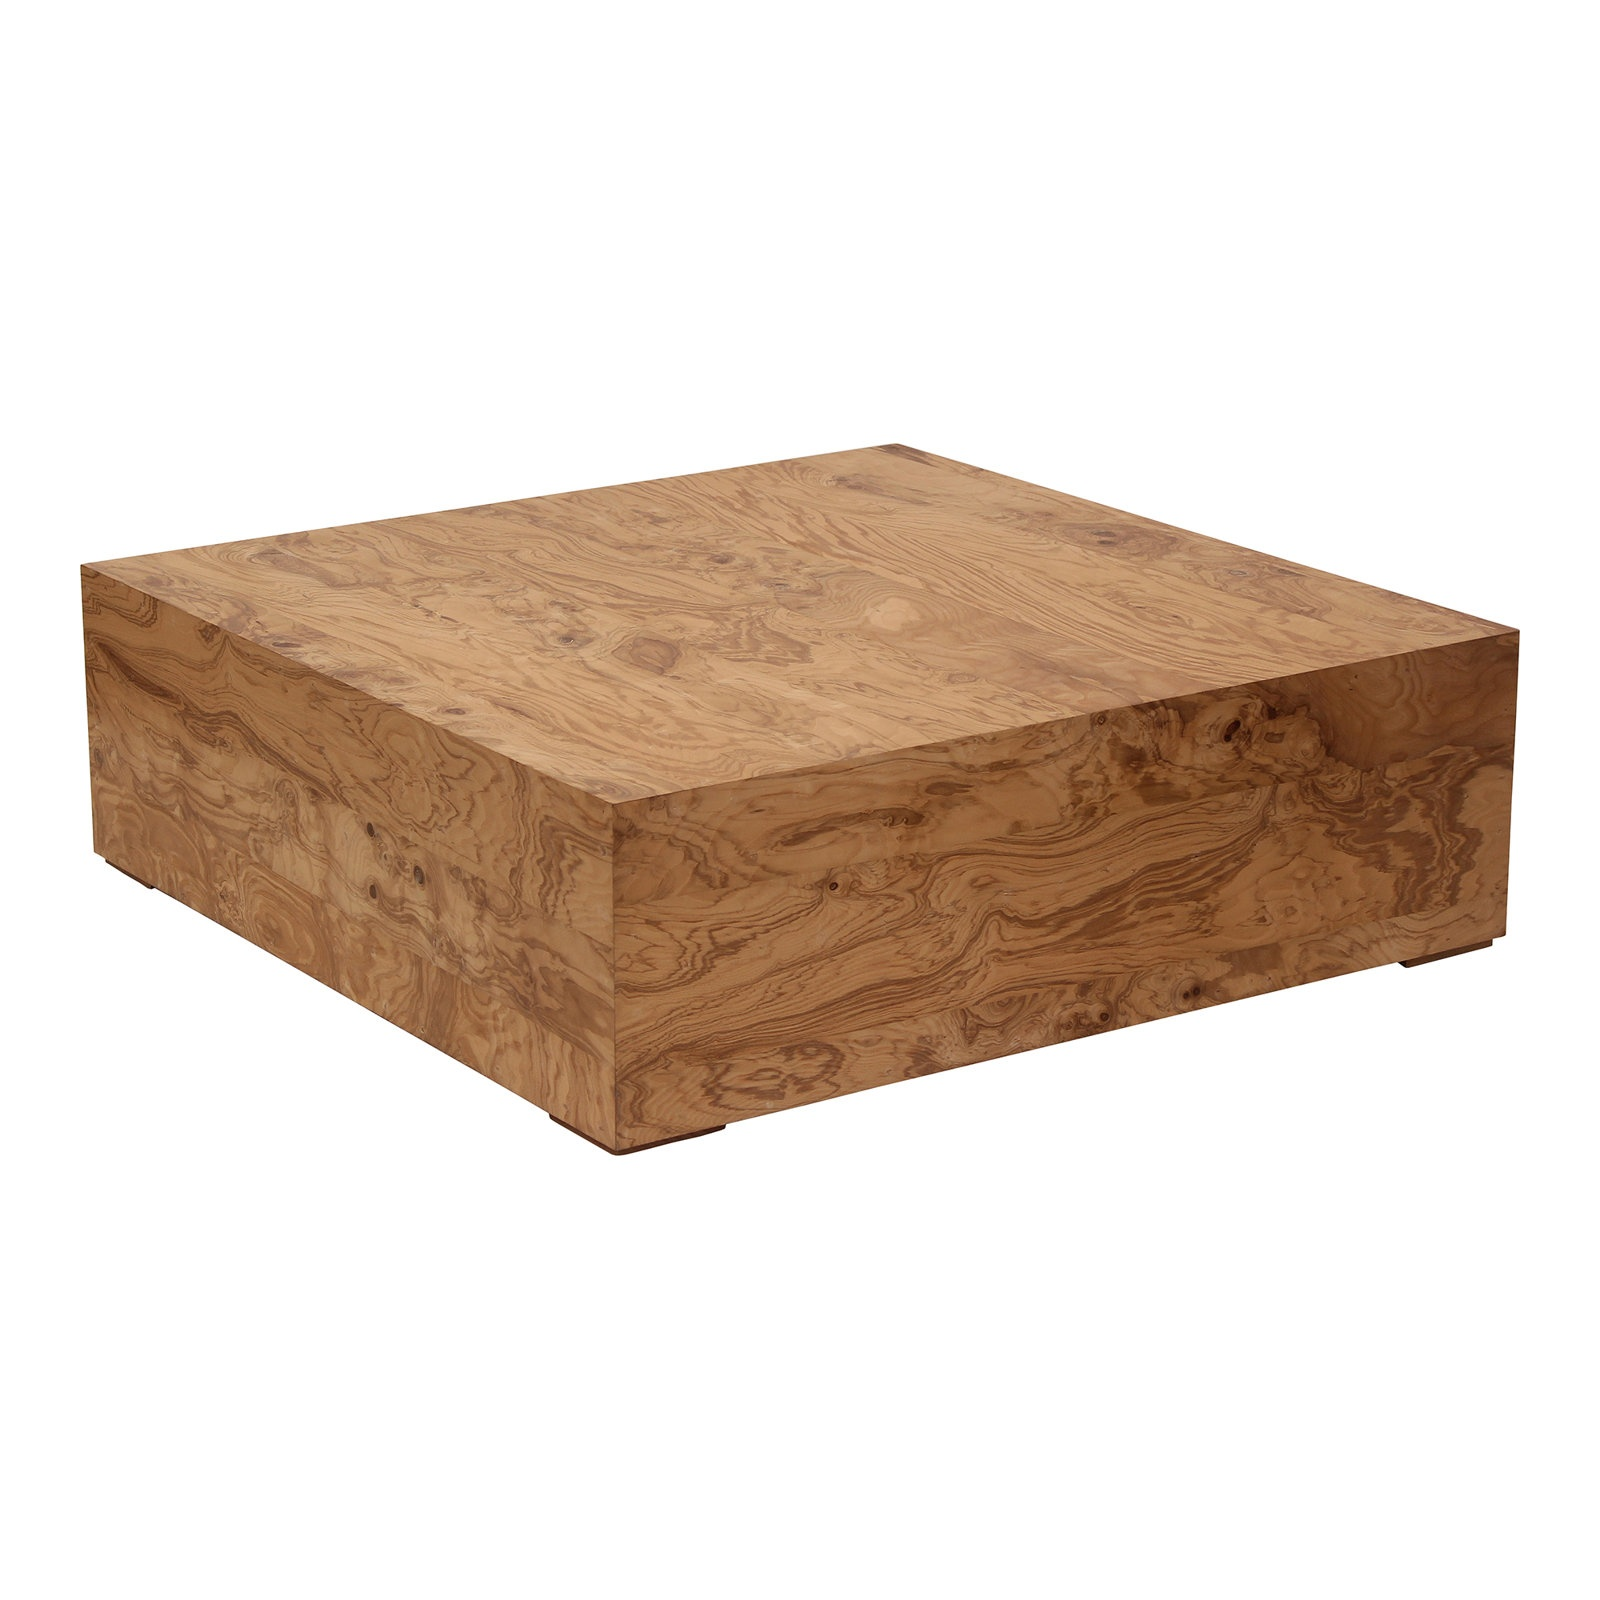obstacle: (82, 444, 1516, 1152)
